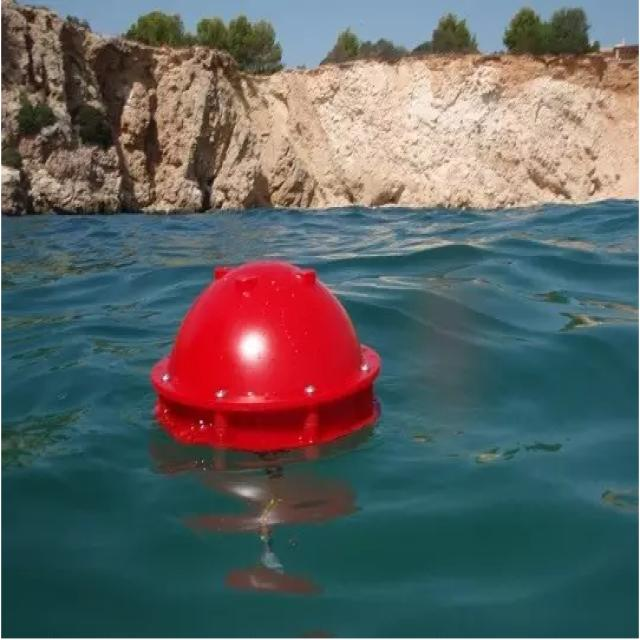buoy: (145, 243, 385, 475)
